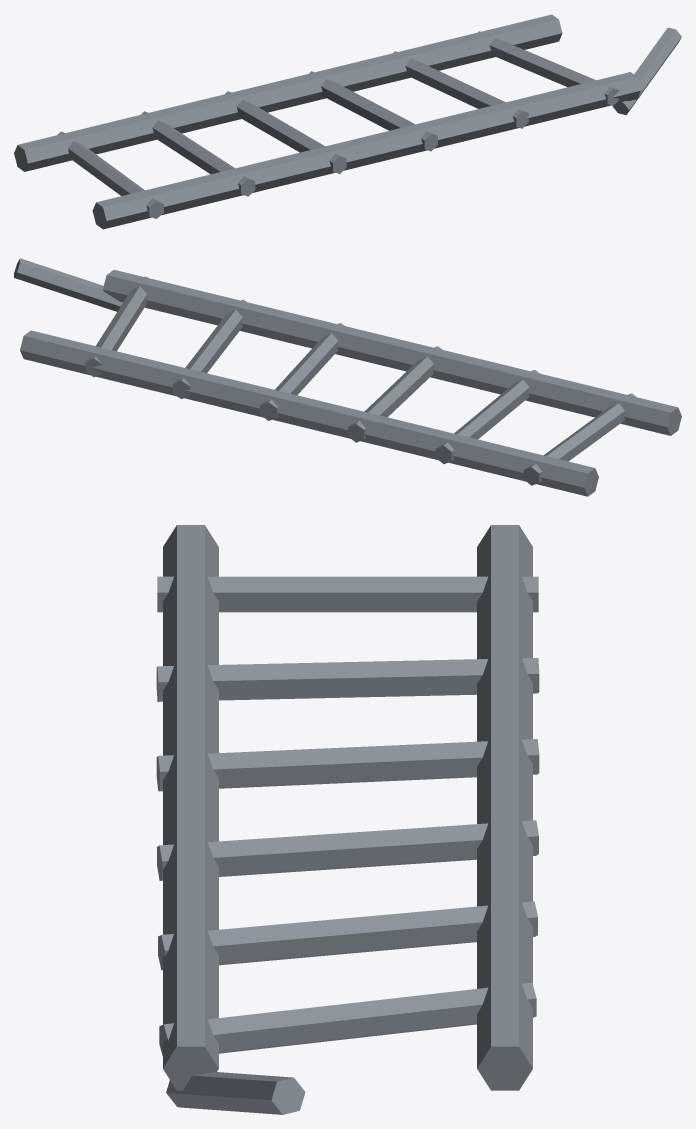
The model's file is prop_debris_cage_bars.glb.
The picture shows the model from 3 angles, top to bottom: view 1: azimuth 30°, elevation 25°; view 2: azimuth 150°, elevation 25°; view 3: azimuth 270°, elevation 25°; orthographic projection. The views are drawn at different scales.
Visible parts, largest first — view 1: prop_debris_cage_bars; view 2: prop_debris_cage_bars; view 3: prop_debris_cage_bars.
Part boxes in pixels (bbox=[...]): prop_debris_cage_bars: bbox=[14, 14, 681, 229]; prop_debris_cage_bars: bbox=[14, 258, 681, 496]; prop_debris_cage_bars: bbox=[156, 525, 539, 1114].
Size of the model in its own units: 1.24 by 0.0969 by 0.3413.
1 material, 1 textured.
